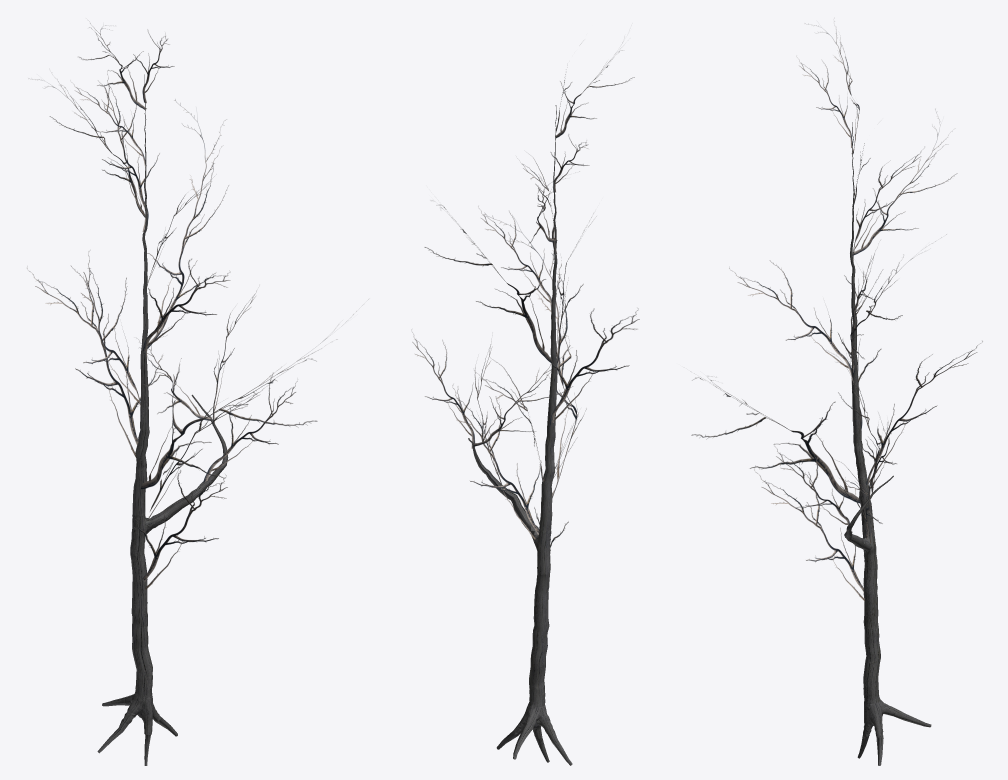
Rendered from dead_tree_1.glb.
The picture shows the model from 3 angles, left to right: view 1: azimuth 30°, elevation 25°; view 2: azimuth 150°, elevation 25°; view 3: azimuth 270°, elevation 25°; orthographic projection. The views are drawn at different scales.
Visible parts, largest first — view 1: DeadBranch, BARK; view 2: DeadBranch, BARK; view 3: DeadBranch, BARK.
Part boxes in pixels (<box>): DeadBranch: <box>27,23,356,589</box>; BARK: <box>97,74,228,765</box>; DeadBranch: <box>412,50,639,547</box>; BARK: <box>468,105,572,765</box>; DeadBranch: <box>691,21,982,600</box>; BARK: <box>844,122,931,765</box>.
Size of the model in its own units: 32.82 by 91.03 by 37.41.
2 materials, 2 textured.
